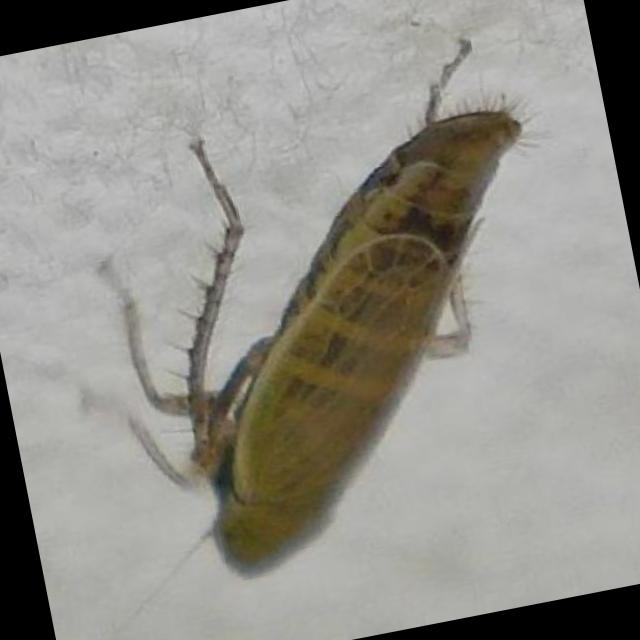green-leafhopper: (131, 84, 588, 586)
